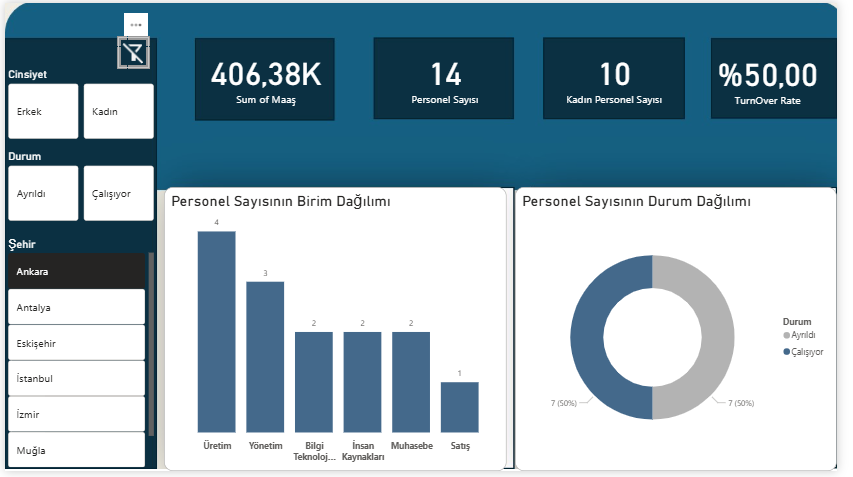

The page's visual inventory and layout, read from the dashboard file:
{"tool":"powerbi","page":{"name":"Page 1","canvas":[1280,720],"ordinal":0},"visuals":[{"type":"card","fields":{"Values":["_Calc.PersonelSayısı"]},"box":[571.2,51.2,212.5,125],"z":0},{"type":"card","fields":{"Values":["Sum(Tablo33.Maaş)"]},"box":[295,51.2,212.5,125],"z":1000},{"type":"card","fields":{"Values":["_Calc.TurnOverRate"]},"box":[1068.3,51.7,211.7,125],"z":2000},{"type":"card","fields":{"Values":["_Calc.KadınSayısı"]},"box":[830,51.2,212.5,125],"z":3000},{"type":"columnChart","title":"Personel Sayısının Birim Dağılımı","fields":{"Category":["Tablo33.BİRİM"],"Y":["_Calc.PersonelSayısı"]},"box":[245,283.3,526.7,436.7],"z":4000},{"type":"donutChart","title":"Personel Sayısının Durum Dağılımı","fields":{"Category":["Tablo33.Durum"],"Y":["_Calc.PersonelSayısı"]},"box":[785,283.3,495,436.7],"z":5000},{"type":"advancedSlicerVisual","fields":{"Values":["Tablo33.Cinsiyet"]},"box":[0,99.8,234.2,114.2],"z":5001},{"type":"advancedSlicerVisual","fields":{"Values":["Tablo33.Durum"]},"box":[0,225.5,234.2,114.2],"z":5002},{"type":"advancedSlicerVisual","fields":{"Values":["Tablo33.Şehir"]},"box":[0,360,234.2,360],"z":5003},{"type":"image","box":[173.5,52,47.7,47.7],"z":5004}]}

Visuals, with their boxes on the page's 1280x720 design canvas (x1, y1, x2, y2). These are canvas units, not pixel positions in the 853x477 screenshot, which may show the page scaled, cropped or inside an application window:
card - _Calc.PersonelSayısı: (571,51,784,176)
card - Sum(Tablo33.Maaş): (295,51,508,176)
card - _Calc.TurnOverRate: (1068,52,1280,177)
card - _Calc.KadınSayısı: (830,51,1042,176)
"Personel Sayısının Birim Dağılımı" columnChart: (245,283,772,720)
"Personel Sayısının Durum Dağılımı" donutChart: (785,283,1280,720)
advancedSlicerVisual - Tablo33.Cinsiyet: (0,100,234,214)
advancedSlicerVisual - Tablo33.Durum: (0,226,234,340)
advancedSlicerVisual - Tablo33.Şehir: (0,360,234,720)
image: (174,52,221,100)
